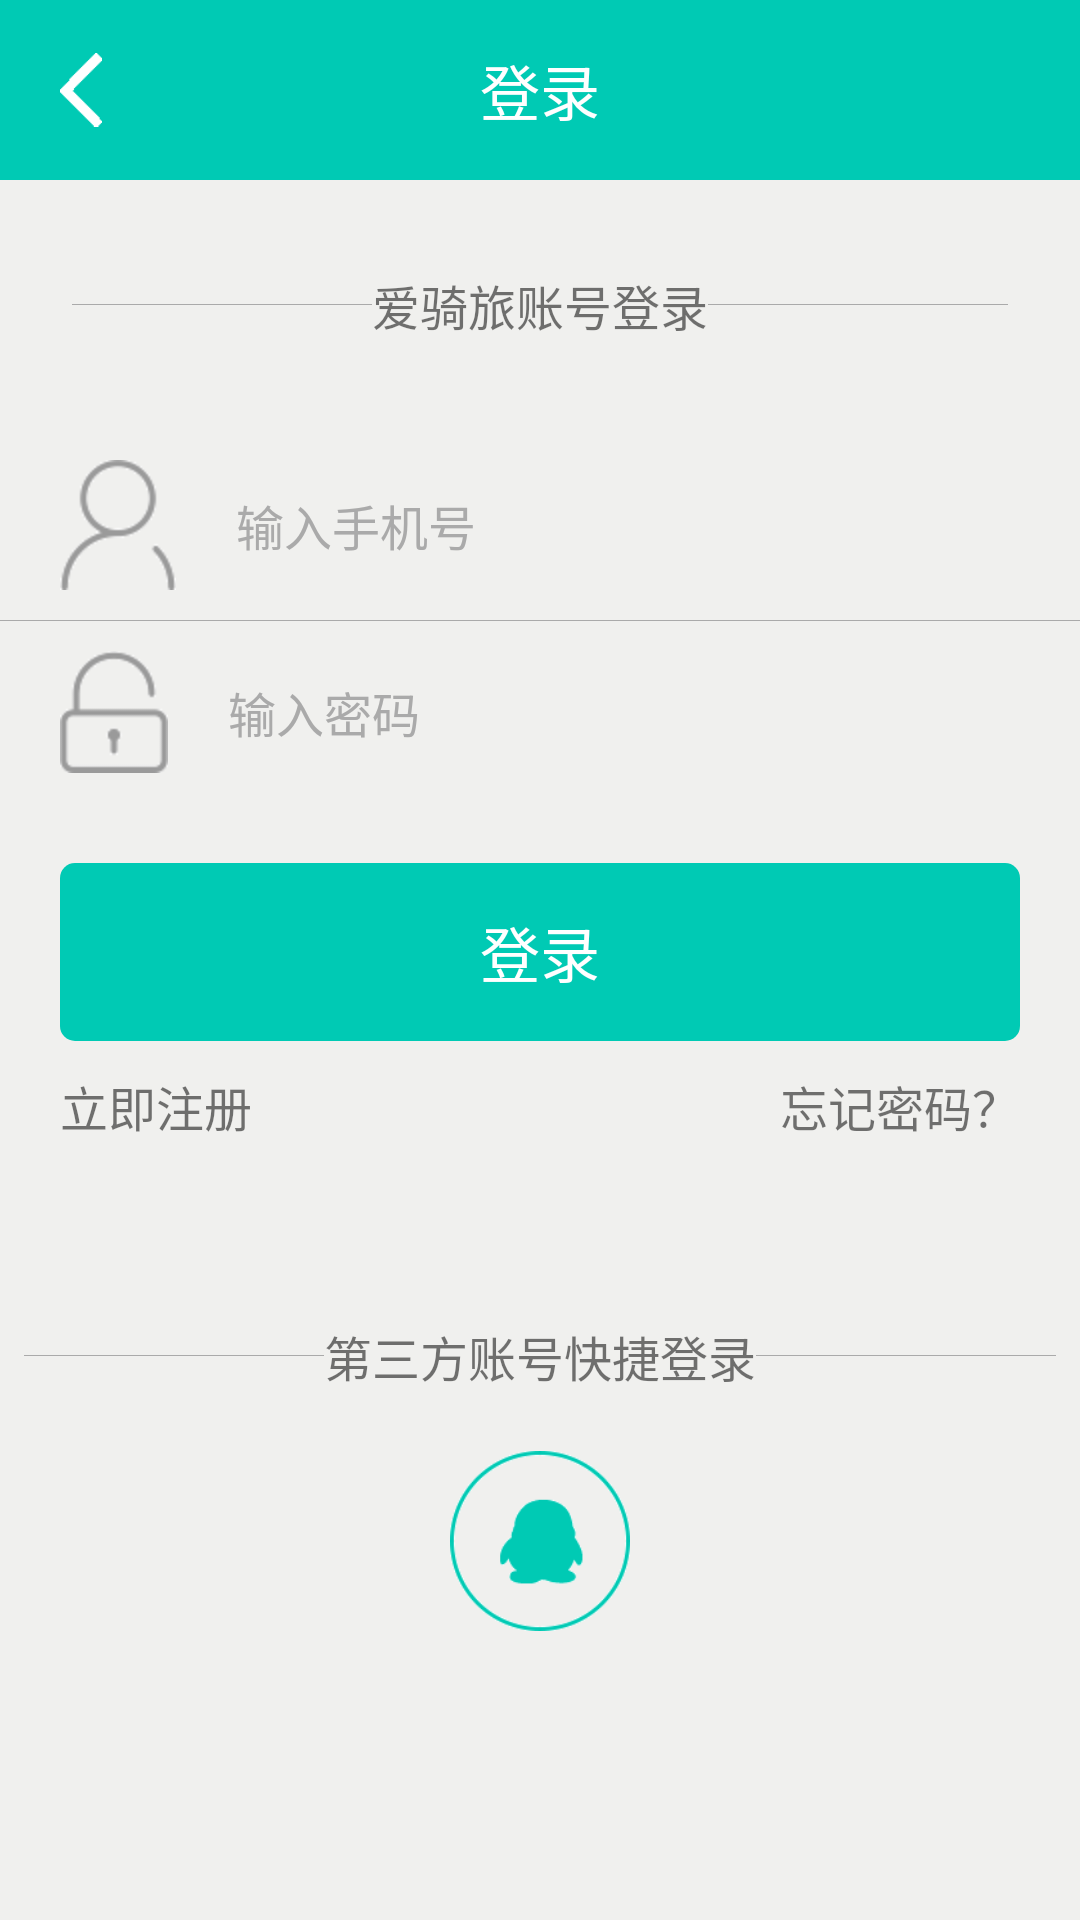

Icon click points for this 1080w x 1920h phone screenshot, format [x,y]:
back: [81,90]
